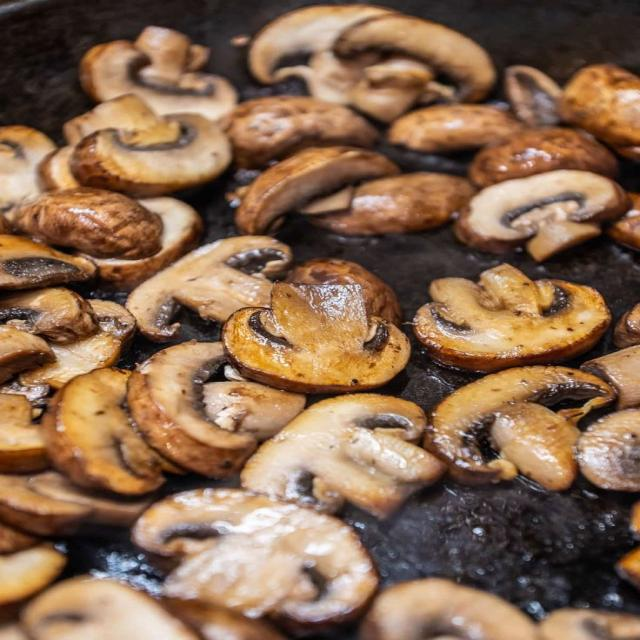champignon mushrooms: (133, 489, 378, 628), (241, 394, 445, 517), (127, 342, 305, 477), (426, 367, 615, 490), (414, 264, 611, 371), (222, 283, 410, 393), (127, 237, 292, 342), (71, 96, 231, 196), (455, 170, 629, 261), (41, 369, 163, 495), (80, 26, 237, 120), (334, 13, 495, 102), (235, 147, 399, 233), (248, 5, 392, 84), (22, 577, 198, 639), (12, 187, 162, 259), (227, 96, 377, 168), (360, 579, 538, 639), (308, 173, 474, 235), (92, 197, 202, 290), (20, 301, 135, 388), (0, 472, 150, 536), (469, 128, 617, 188), (559, 64, 639, 160), (287, 259, 401, 325), (347, 56, 453, 122), (28, 472, 152, 527), (388, 104, 523, 153), (203, 379, 305, 440), (64, 95, 179, 145), (0, 475, 92, 535), (0, 288, 97, 343), (0, 235, 96, 290), (162, 598, 286, 639), (578, 409, 639, 492), (0, 126, 55, 214), (0, 544, 66, 608), (0, 394, 49, 473), (581, 346, 639, 409), (505, 65, 561, 127), (0, 325, 54, 382), (539, 609, 639, 639), (39, 145, 79, 190), (607, 193, 639, 249), (0, 378, 50, 407), (0, 523, 38, 555), (614, 304, 639, 349), (616, 548, 639, 589), (0, 620, 29, 639)
